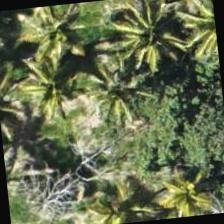Kelapa_Sawit: (103, 0, 202, 83), (14, 0, 112, 79)
